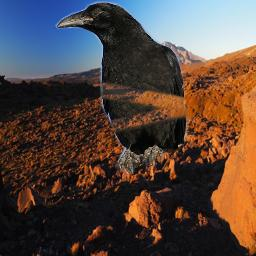Crow: (55, 1, 189, 174)
